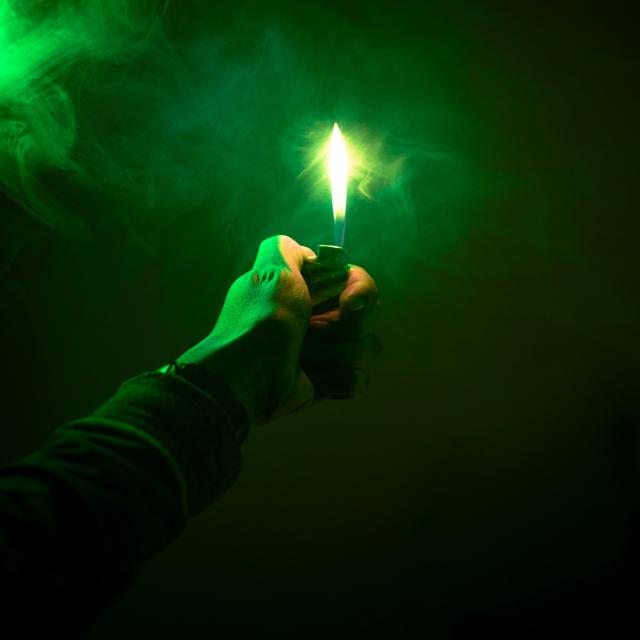fire: (322, 123, 352, 246)
